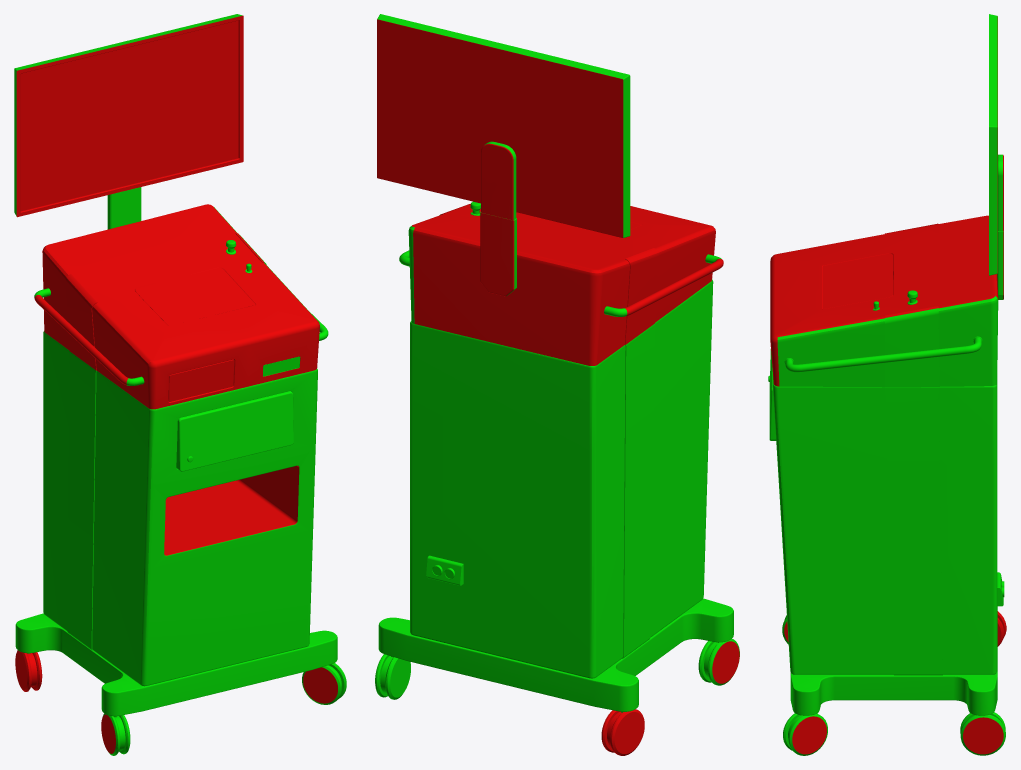
The model's file is Equipment_9.fbx.
3 views of the same model, side by side, from view 1: azimuth 30°, elevation 25°; view 2: azimuth 150°, elevation 25°; view 3: azimuth 270°, elevation 25° (orthographic). The views are drawn at different scales.
Parts seen in each view (by area): view 1: L:polySurface3; view 2: L:polySurface3; view 3: L:polySurface3.
Boxes of the visible parts, left/top/right/bottom form: L:polySurface3: left=14, top=14, right=346, bottom=755; L:polySurface3: left=375, top=14, right=739, bottom=755; L:polySurface3: left=768, top=14, right=1006, bottom=755.
Bounding box in the file's own units: 85.9 × 216 × 73.98.
